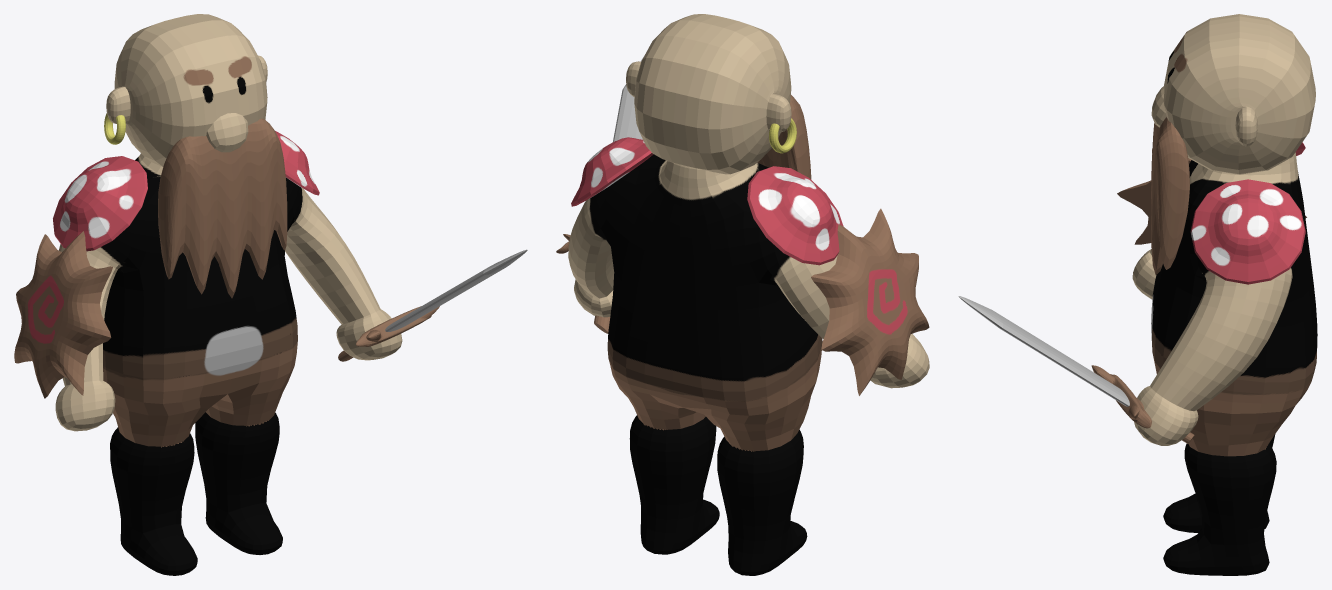
The model's file is sir-rootbeard.fbx.
3 renders of one model, left to right at view 1: azimuth 30°, elevation 25°; view 2: azimuth 150°, elevation 25°; view 3: azimuth 270°, elevation 25°, orthographic. The views are drawn at different scales.
Parts seen in each view (by area): view 1: Body, Head, Beard, Shield, Right Mushroom, Sword, Nose, Left Mushroom; view 2: Body, Head, Shield, Right Mushroom, Left Mushroom, Beard, Sword, Earring; view 3: Body, Head, Left Mushroom, Beard, Sword, Shield.
Boxes of the visible parts, x1,y1,x2,y2 form: Body: [55, 153, 402, 575]; Head: [106, 14, 267, 166]; Beard: [158, 118, 287, 298]; Shield: [14, 231, 112, 398]; Right Mushroom: [53, 156, 147, 251]; Sword: [338, 249, 527, 361]; Nose: [206, 113, 248, 152]; Left Mushroom: [275, 131, 319, 195]; Body: [568, 154, 929, 575]; Head: [626, 14, 791, 174]; Shield: [811, 208, 929, 395]; Right Mushroom: [747, 166, 843, 265]; Left Mushroom: [571, 137, 653, 206]; Beard: [757, 95, 811, 179]; Sword: [556, 57, 643, 333]; Earring: [769, 118, 796, 153]; Body: [1132, 152, 1317, 575]; Head: [1163, 14, 1315, 174]; Left Mushroom: [1190, 179, 1305, 284]; Beard: [1151, 117, 1189, 274]; Sword: [958, 296, 1194, 443]; Shield: [1117, 149, 1306, 244].
Size of the model in its own units: 0.7384 by 0.9745 by 0.605.
Materials: 1 (1 with a texture image).
